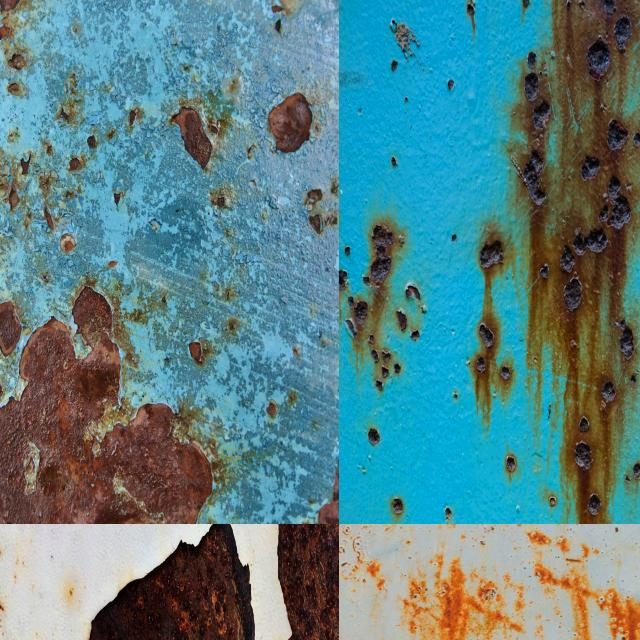Pitting Corrosion: (89, 524, 255, 640), (339, 218, 427, 395), (391, 497, 404, 516), (367, 428, 380, 445)
Uniform Corrosion: (339, 524, 640, 640)
